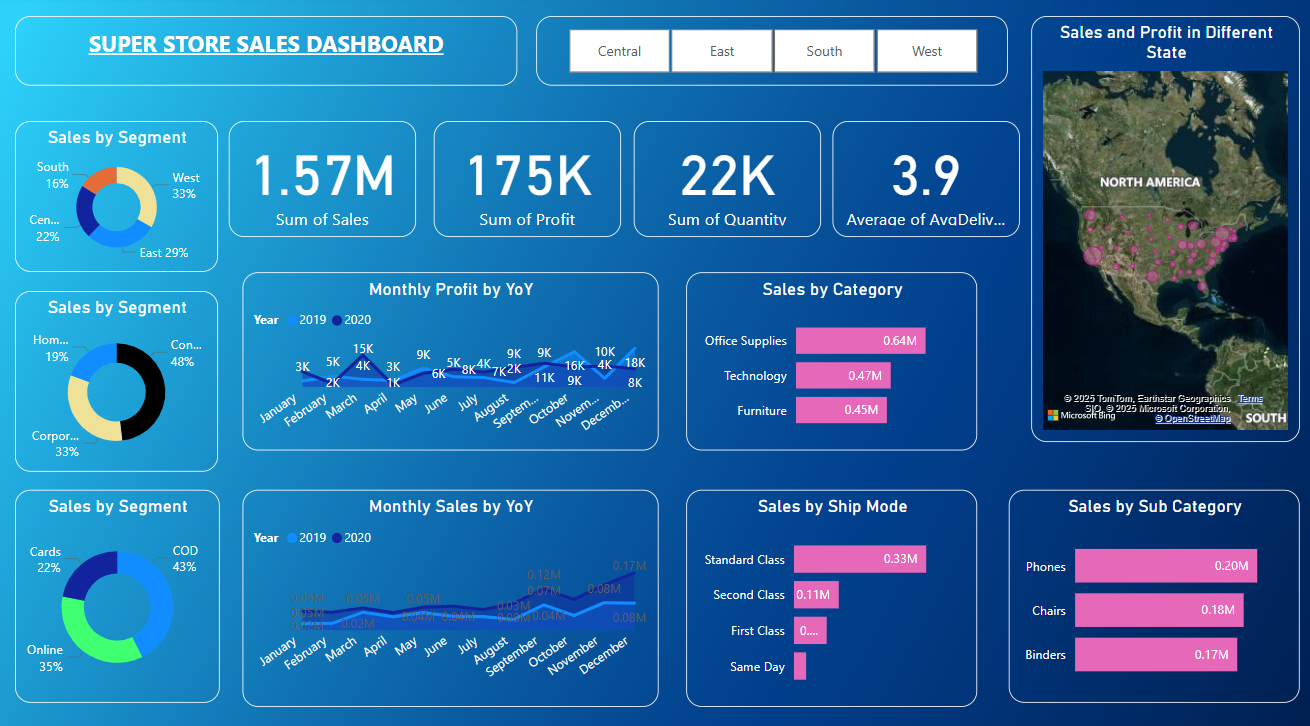

What the dashboard file says about the page in this screenshot:
{"tool":"powerbi","page":{"name":"Page 1","canvas":[1280,720],"ordinal":0},"visuals":[{"type":"clusteredBarChart","title":"Sales by Category","fields":{"Category":["Sheet1 (2).Category"],"Y":["Sum(Sheet1 (2).Sales)"]},"box":[667.6,266.2,281.1,171.6],"z":0},{"type":"clusteredBarChart","title":"Sales by Sub Category","fields":{"Category":["Sheet1 (2).Sub-Category"],"Y":["Sum(Sheet1 (2).Sales)"]},"box":[978.4,477,281.1,205.4],"z":1000},{"type":"clusteredBarChart","title":"Sales by Ship Mode","fields":{"Category":["Sheet1 (2).Ship Mode"],"Y":["Sum(Sheet1 (2).Sales)"]},"box":[667.6,477,281.1,209.5],"z":2000},{"type":"areaChart","title":"Monthly Sales by YoY","fields":{"Y":["Sum(Sheet1 (2).Sales)"],"Category":["Sheet1 (2).Order Date.Variation.Date Hierarchy.Month","Sheet1 (2).Order Date.Variation.Date Hierarchy.Day"],"Series":["Sheet1 (2).Order Date.Variation.Date Hierarchy.Year"]},"box":[239.2,477,401.4,209.5],"z":3000},{"type":"areaChart","title":"Monthly Profit by YoY","fields":{"Category":["Sheet1 (2).Order Date.Variation.Date Hierarchy.Month","Sheet1 (2).Order Date.Variation.Date Hierarchy.Day"],"Series":["Sheet1 (2).Order Date.Variation.Date Hierarchy.Year"],"Y":["Sum(Sheet1 (2).Profit)"]},"box":[239.2,266.2,401.4,171.6],"z":4000},{"type":"map","title":"Sales and Profit in Different State","fields":{"Category":["Sheet1 (2).State"],"Size":["Sum(Sheet1 (2).Sales)"]},"box":[1000,18.9,259.5,410.8],"z":5000},{"type":"donutChart","title":" Sales by Segment","fields":{"Category":["Sheet1 (2).Segment"],"Y":["Sum(Sheet1 (2).Sales)"]},"box":[18.9,285.1,195.9,174.3],"z":6000},{"type":"donutChart","title":" Sales by Segment","fields":{"Category":["Sheet1 (2).Segment"],"Y":["Sum(Sheet1 (2).Sales)"]},"box":[1752.7,459.5,218.9,223],"z":7000},{"type":"donutChart","title":" Sales by Segment","fields":{"Category":["Sheet1 (2).Region"],"Y":["Sum(Sheet1 (2).Sales)"]},"box":[18.9,120.3,195.9,145.9],"z":8000},{"type":"donutChart","title":" Sales by Segment","fields":{"Category":["Sheet1 (2).Payment Mode"],"Y":["Sum(Sheet1 (2).Sales)"]},"box":[18.9,477,197.3,205.4],"z":9000},{"type":"slicer","fields":{"Values":["Sheet1 (2).Region"]},"box":[523,18.9,455.4,67.6],"z":10000},{"type":"textbox","box":[18.9,18.9,485.1,67.6],"z":11000},{"type":"card","fields":{"Values":["Sum(Sheet1 (2).Sales)"]},"box":[225.7,120.3,181.1,112.2],"z":12000},{"type":"card","fields":{"Values":["Sum(Sheet1 (2).Profit)"]},"box":[423,120.3,181.1,112.2],"z":13000},{"type":"card","fields":{"Values":["Sum(Sheet1 (2).Quantity)"]},"box":[616.2,120.3,181.1,112.2],"z":14000},{"type":"card","fields":{"Values":["Avg(Sheet1 (2).AvgDelivery)"]},"box":[808.1,120.3,181.1,112.2],"z":15000}]}

Visuals, with their boxes in screenshot pixels (x1, y1, x2, y2), scaled from the page's 1280x720 canvas onto the 1310x726 screenshot:
"Sales by Category" clusteredBarChart: [x1=683, y1=268, x2=971, y2=441]
"Sales by Sub Category" clusteredBarChart: [x1=1001, y1=481, x2=1289, y2=688]
"Sales by Ship Mode" clusteredBarChart: [x1=683, y1=481, x2=971, y2=692]
"Monthly Sales by YoY" areaChart: [x1=245, y1=481, x2=656, y2=692]
"Monthly Profit by YoY" areaChart: [x1=245, y1=268, x2=656, y2=441]
"Sales and Profit in Different State" map: [x1=1023, y1=19, x2=1289, y2=433]
" Sales by Segment" donutChart: [x1=19, y1=287, x2=220, y2=463]
" Sales by Segment" donutChart: [x1=19, y1=121, x2=220, y2=268]
" Sales by Segment" donutChart: [x1=19, y1=481, x2=221, y2=688]
slicer - Sheet1 (2).Region: [x1=535, y1=19, x2=1001, y2=87]
textbox: [x1=19, y1=19, x2=516, y2=87]
card - Sum(Sheet1 (2).Sales): [x1=231, y1=121, x2=416, y2=234]
card - Sum(Sheet1 (2).Profit): [x1=433, y1=121, x2=618, y2=234]
card - Sum(Sheet1 (2).Quantity): [x1=631, y1=121, x2=816, y2=234]
card - Avg(Sheet1 (2).AvgDelivery): [x1=827, y1=121, x2=1012, y2=234]
